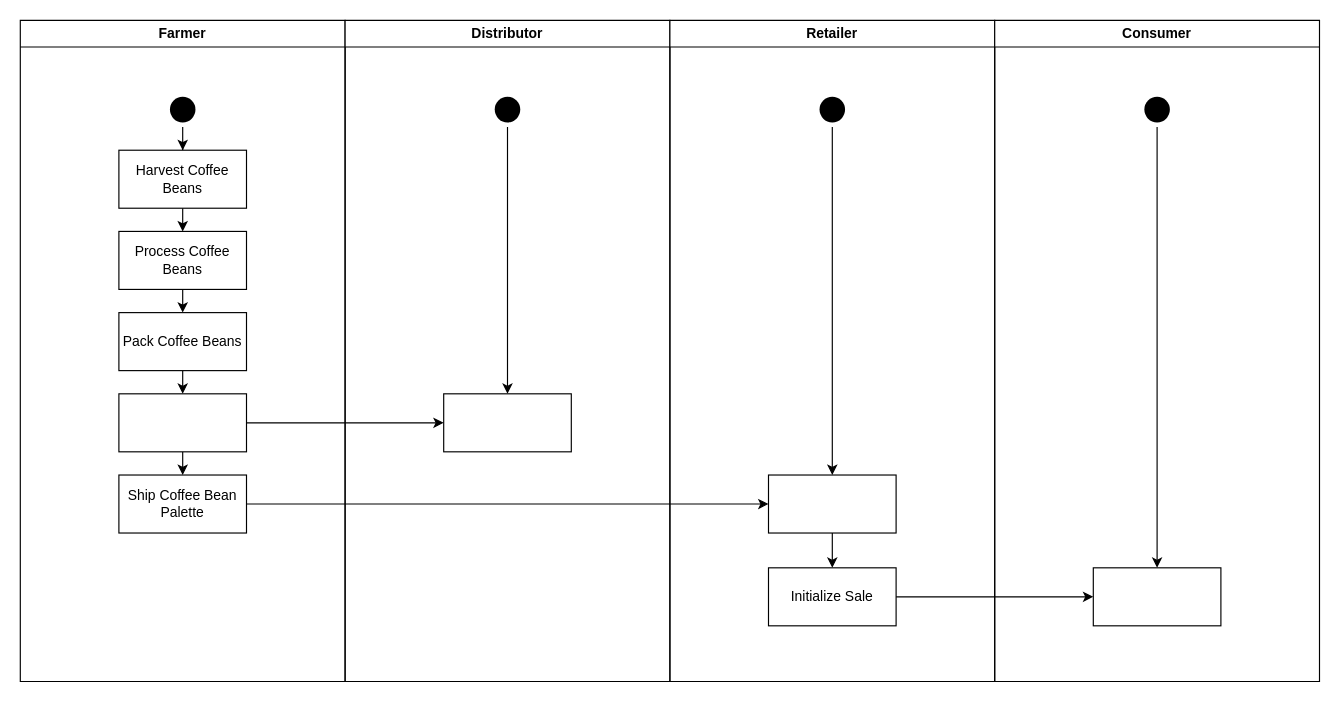
The diagram is 1340 pixels wide and 702 high, and some of its shapes have lost their labels. The centre of each missing label's shape, as x and y in pixels:
"Add Coffee Beans to a Palette for Shipment" goes at point 182,422.
"Buy Coffee" goes at point 1156,596.
"Buy Coffee Bean Palette" goes at point 507,422.
"Receive Coffee Bean Palette" goes at point 831,503.
